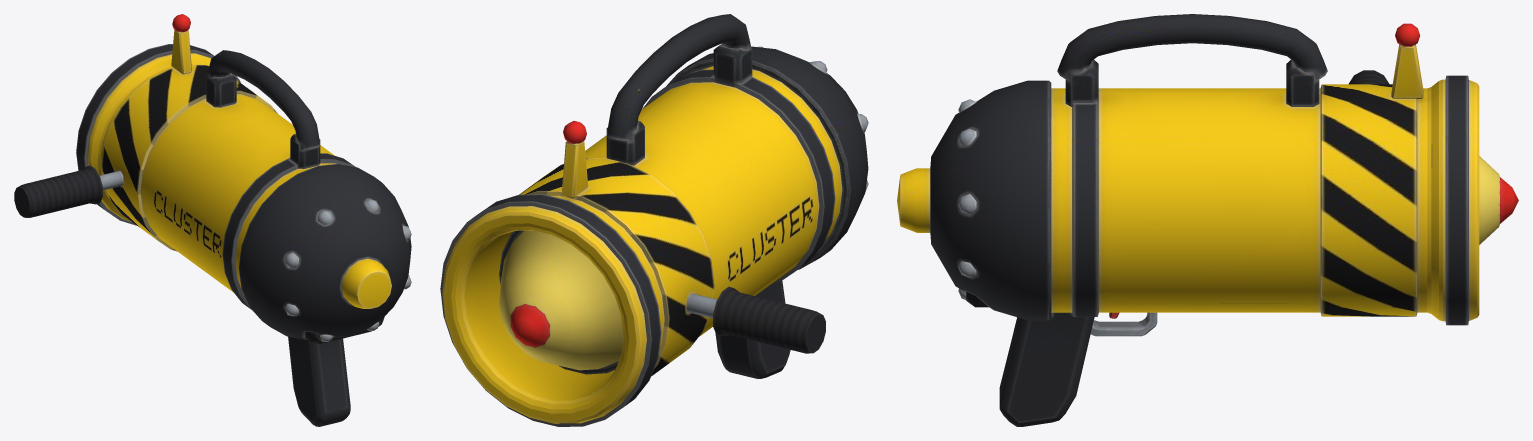
Rendered from gl_cluster.glb.
3 renders of one model, left to right at view 1: azimuth 30°, elevation 25°; view 2: azimuth 150°, elevation 25°; view 3: azimuth 270°, elevation 25°, orthographic. The views are drawn at different scales.
Parts seen in each view (by area): view 1: gl_cluster; view 2: gl_cluster, shell; view 3: gl_cluster, shell.
Part boxes in pixels (x1,y1,x2,y2): gl_cluster: (14,14,411,426); gl_cluster: (440,14,868,426); shell: (499,230,623,374); gl_cluster: (897,14,1479,426); shell: (1479,156,1518,244).
Size of the model in its own units: 0.3535 by 0.4049 by 0.564.
8 materials, 8 textured.
